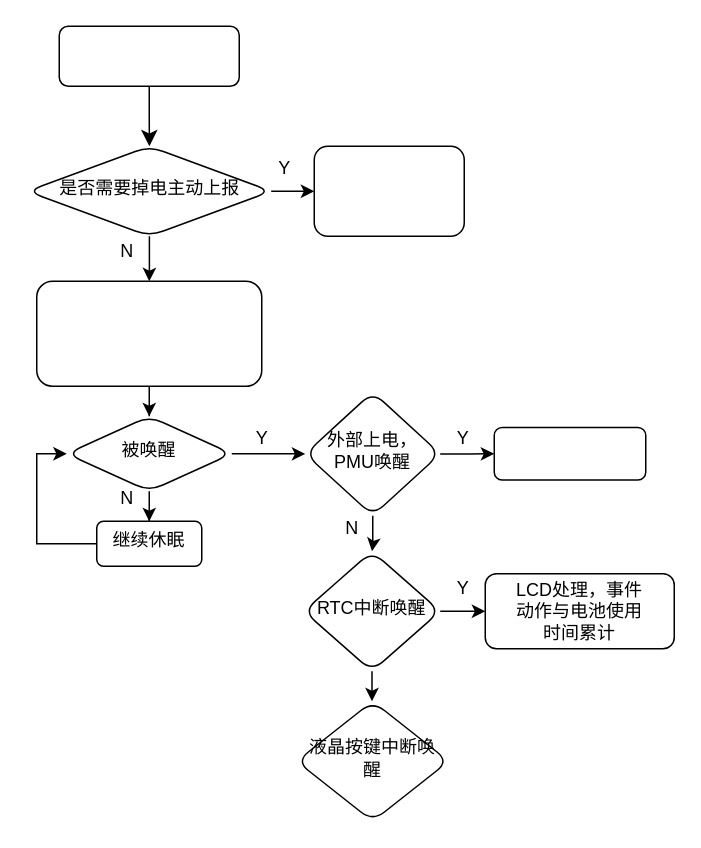
Image size: 701x848. Some labels were removed from this diagram. The box of each missing label's shape, as (x1, y1, x2, y2) in pixels:
进入低功耗处理: (58, 25, 239, 86)
退出低功耗模式: (493, 426, 646, 480)
通过上行口发送掉电主动上报帧: (313, 145, 464, 236)
配置好外设时钟、RTC、TBS、PMU、NVIC后，切换到LRC时钟进入休眠: (35, 280, 262, 386)
